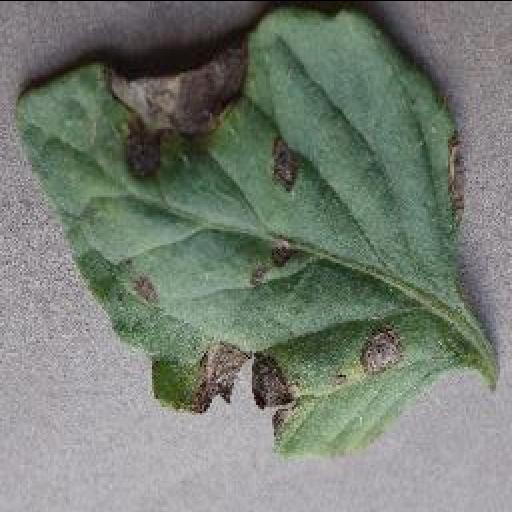disease_tomato: (14, 12, 464, 456)
